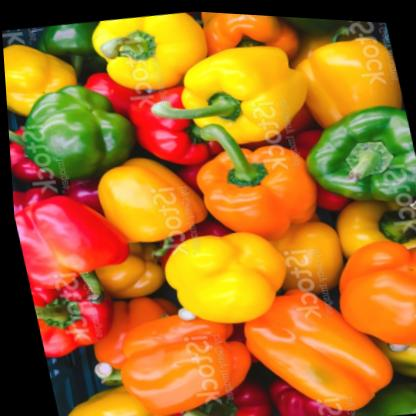bell_pepper: (136, 28, 331, 160), (178, 106, 332, 253), (149, 210, 299, 337), (10, 184, 148, 317), (9, 74, 144, 191), (80, 4, 218, 100)
